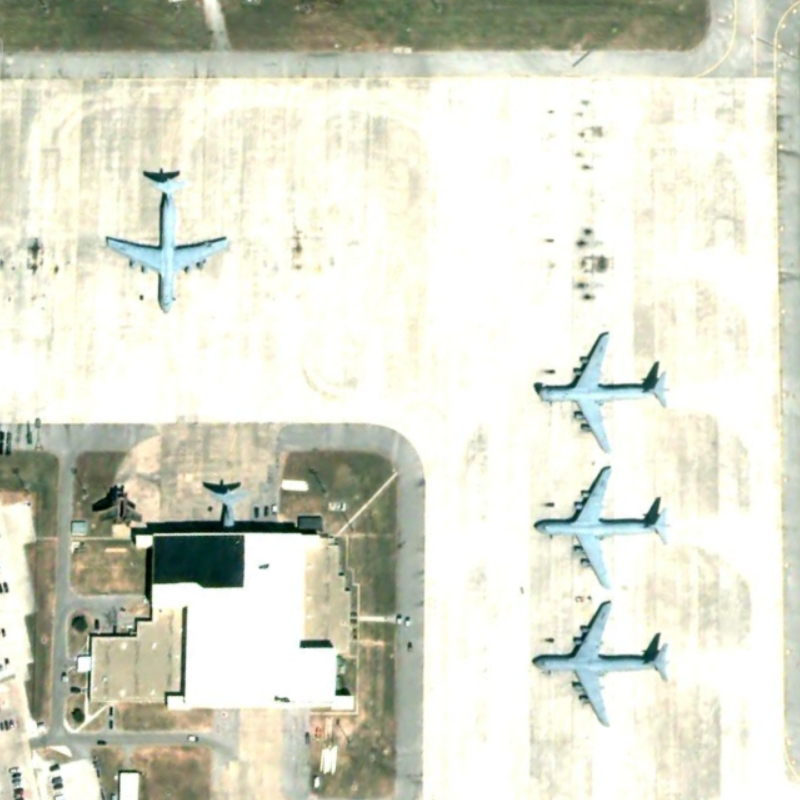A4: (99, 163, 238, 322), (526, 594, 675, 732), (526, 322, 674, 459), (525, 459, 671, 596)
